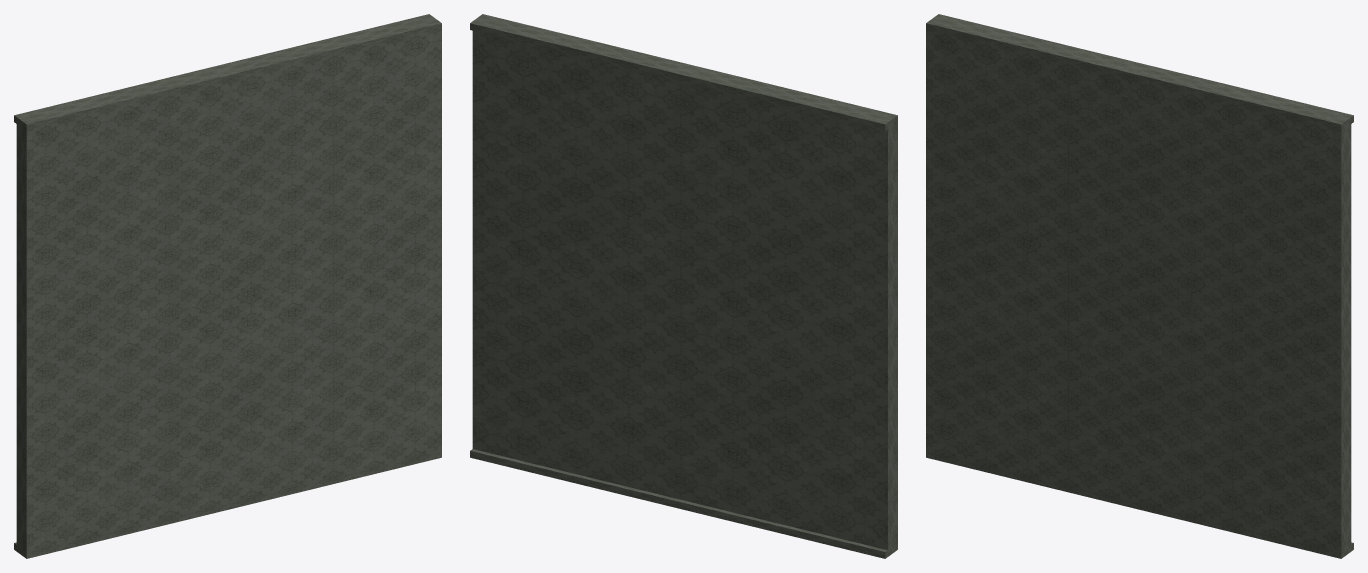
Rendered from Wall_esssahl_big.fbx.
3 renders of one model, left to right at view 1: azimuth 30°, elevation 25°; view 2: azimuth 150°, elevation 25°; view 3: azimuth 330°, elevation 25°, orthographic.
Parts seen in each view (by area): view 1: Wall_Esss_big226; view 2: Wall_Esss_big226; view 3: Wall_Esss_big226.
Boxes of the visible parts, x1,y1,x2,y2 form: Wall_Esss_big226: (14,14,441,558); Wall_Esss_big226: (470,14,897,558); Wall_Esss_big226: (926,14,1353,558).
Size of the model in its own units: 600 by 600 by 31.48.
